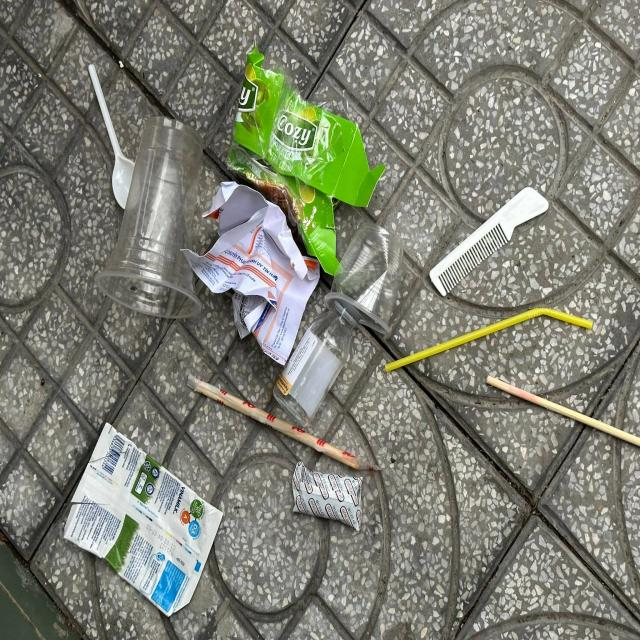bottle: (274, 296, 359, 428)
cardboard box: (226, 38, 388, 276)
drinking straw: (384, 308, 594, 374)
napkin: (63, 423, 222, 616)
packet: (290, 463, 363, 533)
paper: (180, 181, 320, 368)
plastic glass: (94, 115, 205, 318), (323, 223, 401, 339)
plastic utensil: (89, 66, 140, 208)
